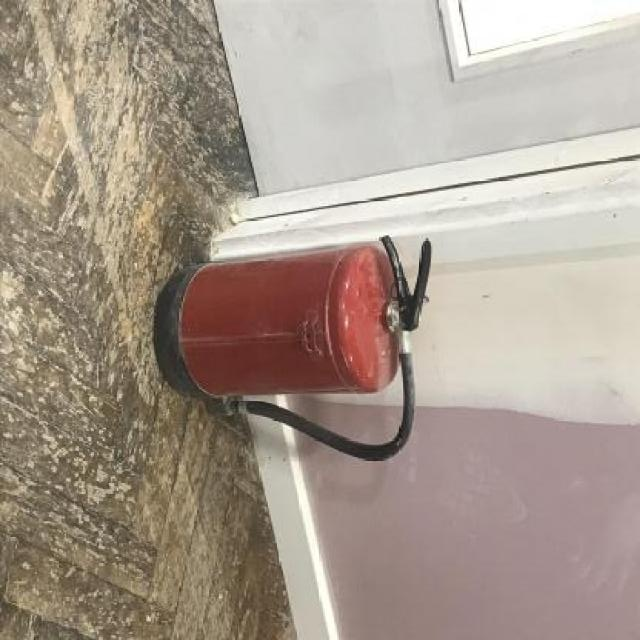fire extinguisher: (154, 233, 432, 462)
